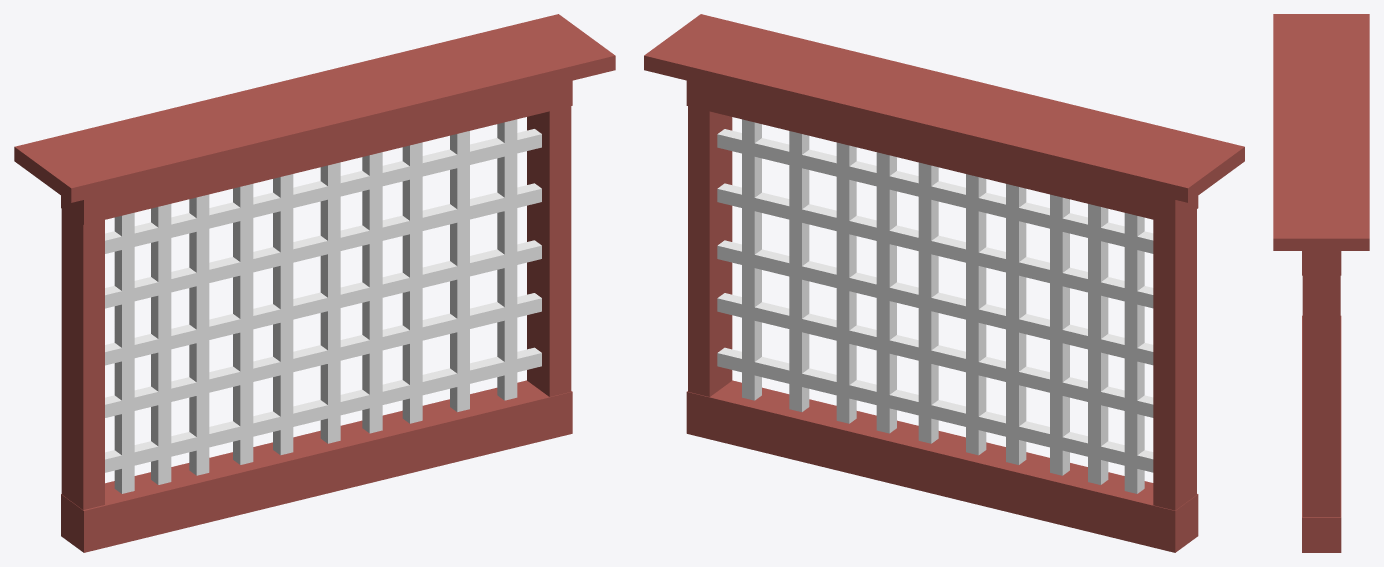
The model's file is borderfence-main.obj.
3 renders of one model, left to right at view 1: azimuth 30°, elevation 25°; view 2: azimuth 150°, elevation 25°; view 3: azimuth 270°, elevation 25°, orthographic. The views are drawn at different scales.
Visible parts, largest first — view 1: top, frame_2, frame_3, frame_1, frame, Cube_2_1, Cube_2_3, Cube_2_2, Cube_2, Cube_2_4, Cube_1_8, Cube_1_7 (+8 smaller); view 2: top, frame_2, frame_3, frame_1, frame, Cube_2_1, Cube_2_2, Cube_2_3, Cube_2_4, Cube_2, Cube_1_1, Cube_1_3 (+8 smaller); view 3: top, frame, frame_2, frame_3.
Boxes of the visible parts, x1,y1,x2,y2 form: top: [14, 14, 615, 202]; frame_2: [61, 380, 572, 552]; frame_3: [61, 80, 572, 224]; frame_1: [61, 209, 104, 509]; frame: [527, 106, 571, 396]; Cube_2_1: [105, 240, 541, 365]; Cube_2_3: [105, 129, 541, 253]; Cube_2_2: [105, 183, 541, 308]; Cube_2: [105, 293, 541, 417]; Cube_2_4: [105, 347, 541, 472]; Cube_1_8: [151, 204, 171, 484]; Cube_1_7: [189, 194, 209, 475]; top: [644, 14, 1244, 202]; frame_2: [686, 380, 1198, 552]; frame_3: [686, 80, 1198, 224]; frame_1: [1153, 209, 1196, 510]; frame: [688, 106, 732, 396]; Cube_2_1: [717, 240, 1153, 365]; Cube_2_2: [717, 183, 1153, 308]; Cube_2_3: [717, 129, 1153, 253]; Cube_2_4: [717, 347, 1153, 472]; Cube_2: [717, 293, 1153, 417]; Cube_1_1: [789, 131, 809, 411]; Cube_1_3: [876, 152, 896, 433]; top: [1273, 14, 1369, 250]; frame: [1302, 275, 1340, 516]; frame_2: [1302, 315, 1341, 552]; frame_3: [1302, 251, 1341, 275].
Size of the model in its own units: 6.15 by 4.15 by 1.11.
